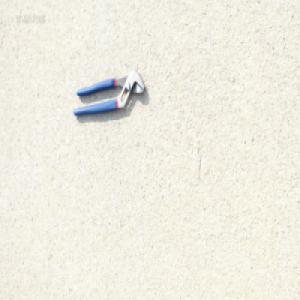Pliers: (71, 69, 145, 118)
